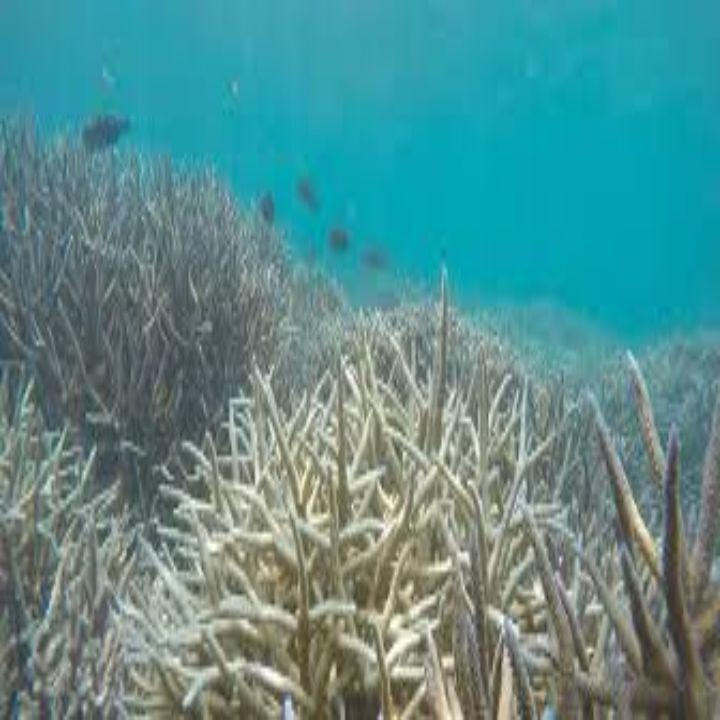Bleached-disease: (0, 122, 325, 487), (0, 368, 167, 720)
